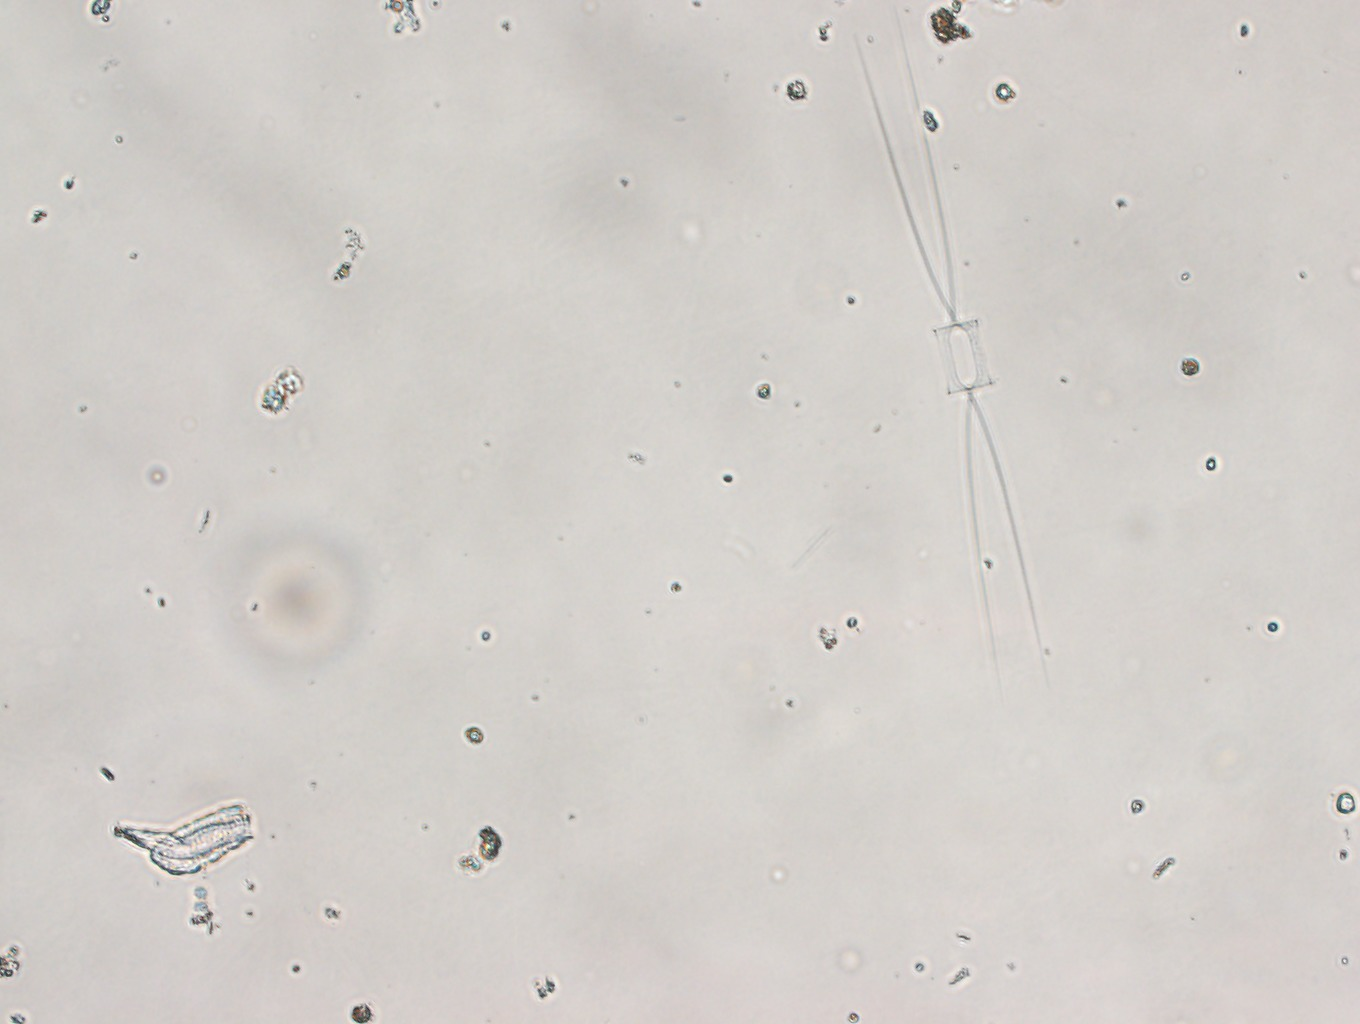chaetoceros: (855, 10, 1049, 681)
